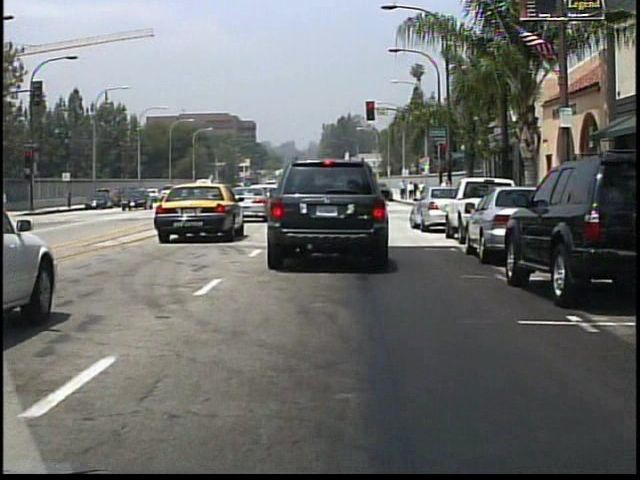person: (439, 177, 457, 213), (408, 180, 416, 202), (419, 181, 427, 200), (400, 179, 407, 200)
